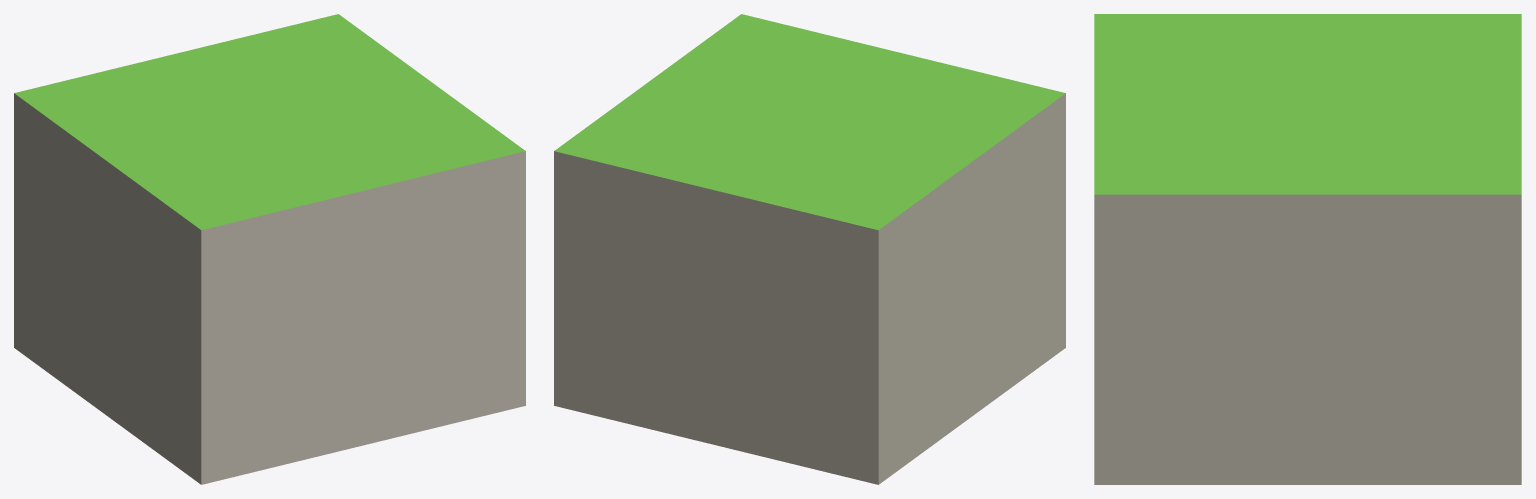
File: stone-block.glb
3 renders of one model, left to right at view 1: azimuth 30°, elevation 25°; view 2: azimuth 150°, elevation 25°; view 3: azimuth 270°, elevation 25°, orthographic. The views are drawn at different scales.
Visible parts, largest first — view 1: cliff_block_stone; view 2: cliff_block_stone; view 3: cliff_block_stone.
Boxes of the visible parts, x1,y1,x2,y2 form: cliff_block_stone: (14, 14, 525, 484); cliff_block_stone: (554, 14, 1065, 484); cliff_block_stone: (1094, 14, 1521, 484).
Size of the model in its own units: 4 by 3 by 4.
